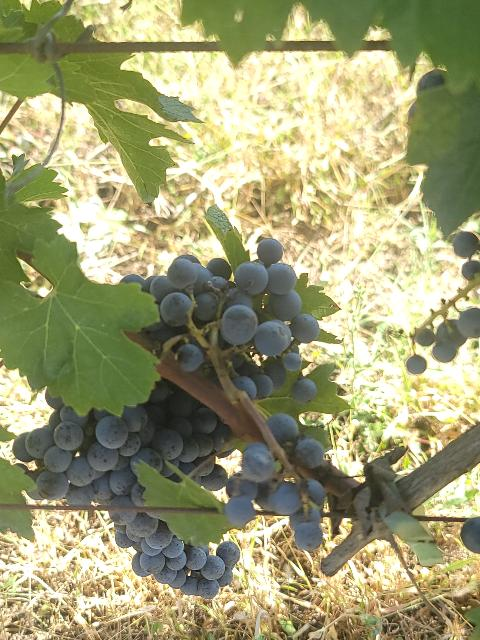grapes: (149, 239, 340, 415), (12, 380, 232, 509), (109, 510, 239, 598), (225, 442, 325, 551)
